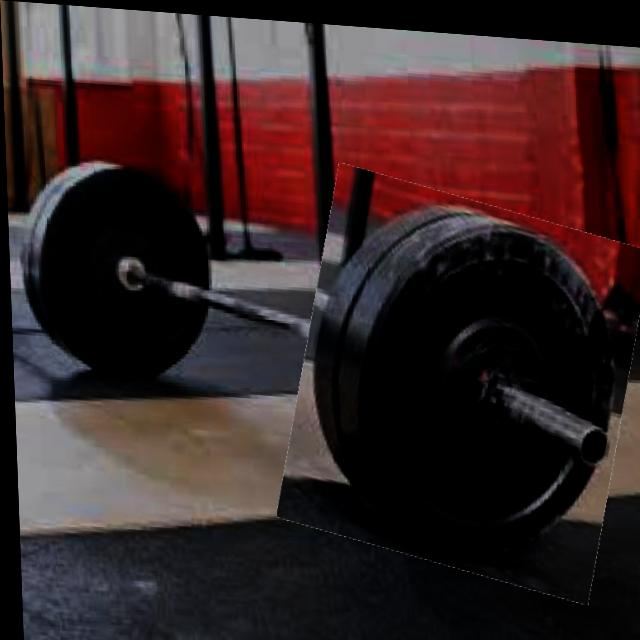barbell: (281, 170, 640, 587)
